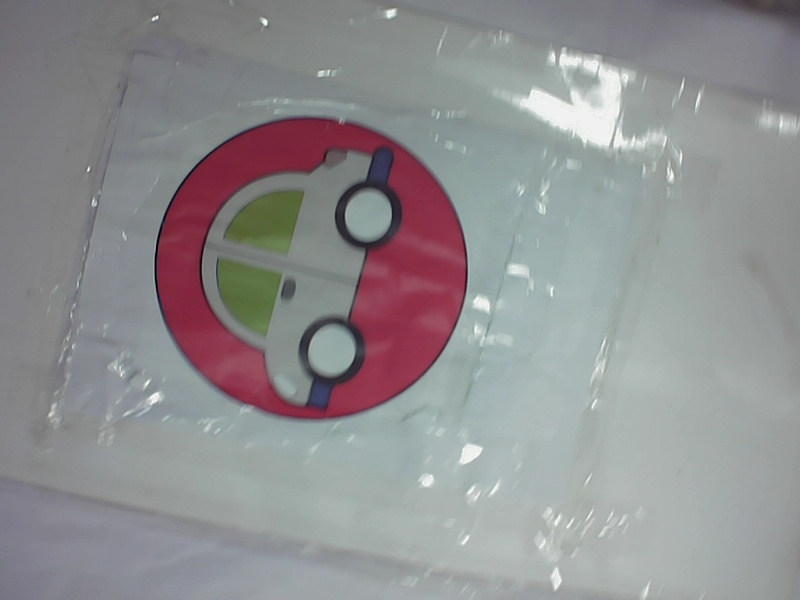areaC: (155, 117, 473, 426)
